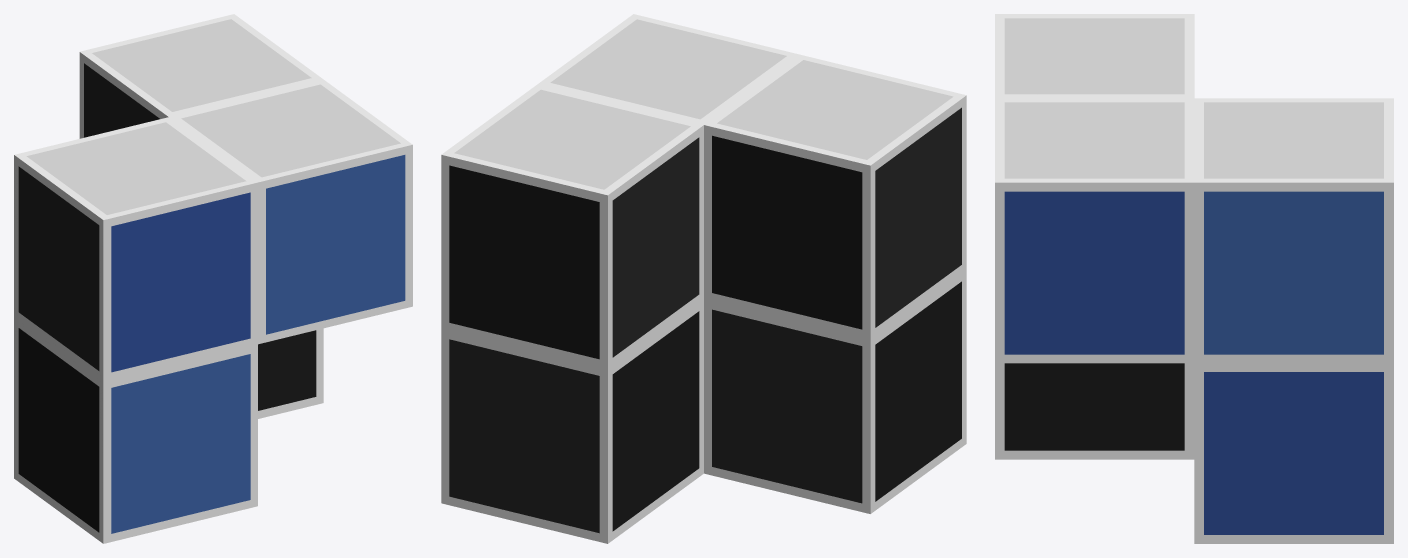
Rendered from marmelab.gltf.
The picture shows the model from 3 angles, left to right: view 1: azimuth 30°, elevation 25°; view 2: azimuth 150°, elevation 25°; view 3: azimuth 270°, elevation 25°; orthographic projection. The views are drawn at different scales.
Visible parts, largest first — view 1: Cube; view 2: Cube; view 3: Cube.
Part boxes in pixels (bbox=[...]): Cube: bbox=[14, 14, 412, 543]; Cube: bbox=[441, 14, 966, 543]; Cube: bbox=[995, 14, 1393, 543].
Size of the model in its own units: 4 by 4 by 4.
